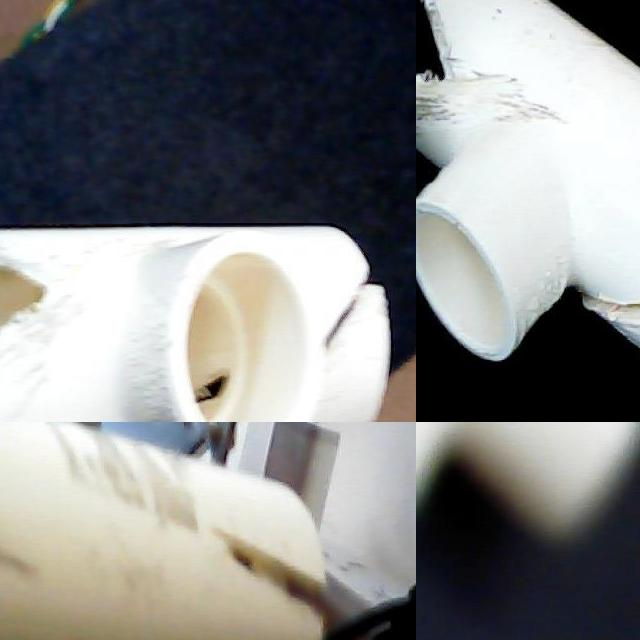Defective: (416, 0, 552, 156), (188, 500, 322, 640), (289, 255, 392, 399), (211, 530, 341, 636), (0, 422, 63, 640), (0, 233, 88, 367), (572, 260, 640, 348), (164, 362, 256, 422)
T Joint: (416, 0, 640, 365), (0, 227, 392, 422), (416, 422, 640, 549)
